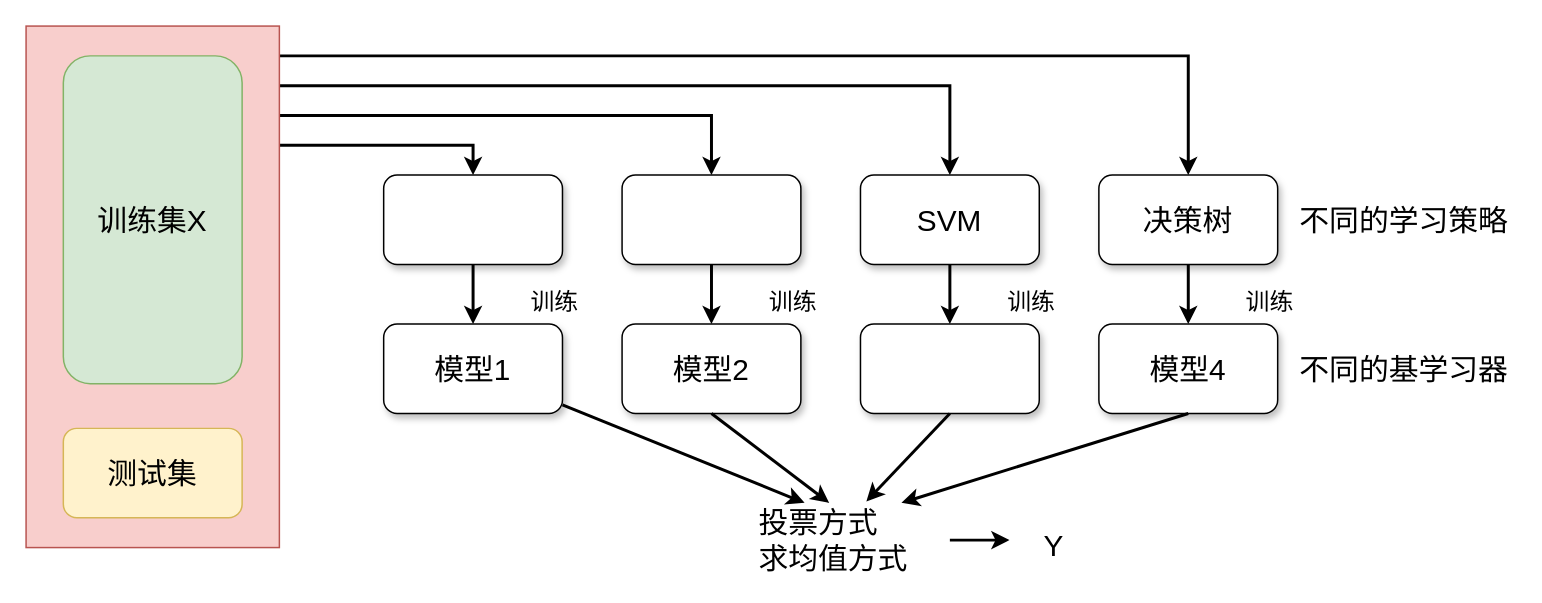
This 1542x603 diagram has some shape labels left out. Here are the shapes that lost their labels. From the top down, the centre of each, then its label:
At pixel 473 221: "KNN".
At pixel 712 221: "LinReg".
At pixel 950 370: "模型3".
